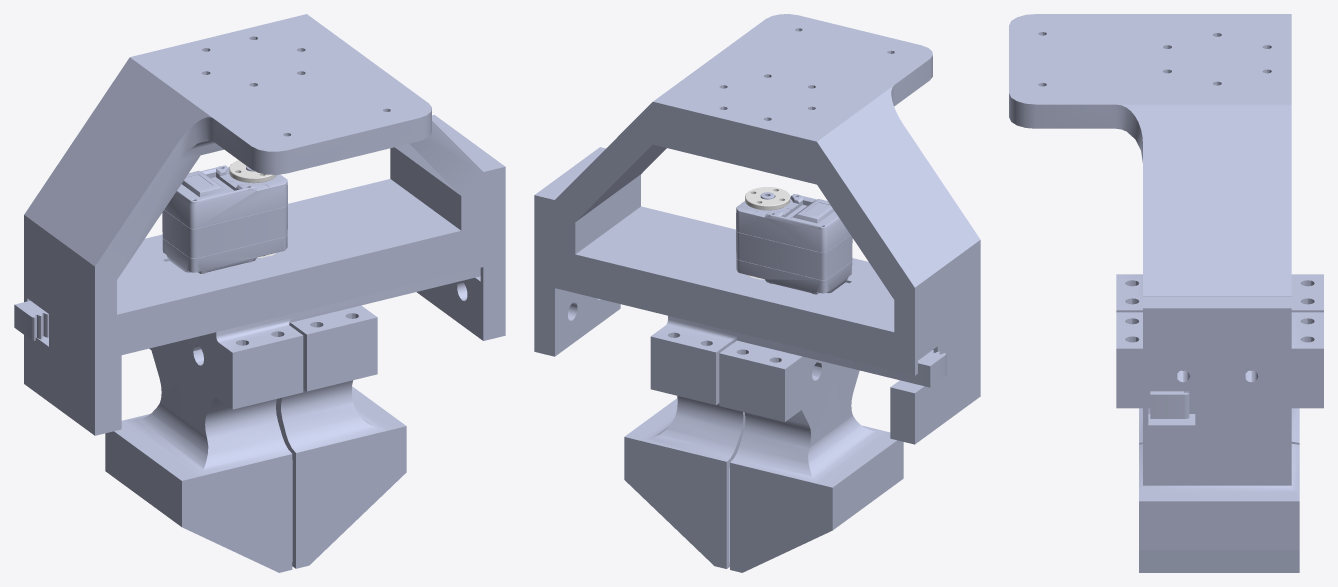
Rendered from new_gripper.glb.
The picture shows the model from 3 angles, left to right: view 1: azimuth 30°, elevation 25°; view 2: azimuth 150°, elevation 25°; view 3: azimuth 270°, elevation 25°; orthographic projection. The views are drawn at different scales.
Parts seen in each view (by area): view 1: IGUS Mount(Default)Display State 1, Bucket Gripper Finger 1(Default)Display State 1, Bucket Gripper Finger 2(Default)Display State 1, body3737688, Rack(Default)Display State 1, Rack 2(Default)Display State 1; view 2: IGUS Mount(Default)Display State 1, Bucket Gripper Finger 1(Default)Display State 1, Bucket Gripper Finger 2(Default)Display State 1, body3737688, Rack 2(Default)Display State 1, Rack(Default)Display State 1, body3759603; view 3: IGUS Mount(Default)Display State 1, Bucket Gripper Finger 2(Default)Display State 1, Rack 2(Default)Display State 1, Rack(Default)Display State 1, Bucket Gripper Finger 1(Default)Display State 1.
Part boxes in pixels (bbox=[...]): IGUS Mount(Default)Display State 1: bbox=[24, 14, 505, 435]; Bucket Gripper Finger 1(Default)Display State 1: bbox=[105, 341, 303, 572]; Bucket Gripper Finger 2(Default)Display State 1: bbox=[276, 344, 406, 568]; body3737688: bbox=[162, 165, 287, 273]; Rack(Default)Display State 1: bbox=[179, 268, 480, 379]; Rack 2(Default)Display State 1: bbox=[14, 300, 377, 361]; IGUS Mount(Default)Display State 1: bbox=[534, 14, 980, 444]; Bucket Gripper Finger 1(Default)Display State 1: bbox=[719, 363, 903, 572]; Bucket Gripper Finger 2(Default)Display State 1: bbox=[624, 362, 745, 568]; body3737688: bbox=[736, 192, 852, 294]; Rack 2(Default)Display State 1: bbox=[650, 316, 946, 387]; Rack(Default)Display State 1: bbox=[719, 340, 827, 394]; body3759603: bbox=[745, 187, 790, 210]; IGUS Mount(Default)Display State 1: bbox=[1009, 14, 1291, 485]; Bucket Gripper Finger 2(Default)Display State 1: bbox=[1116, 377, 1323, 572]; Rack 2(Default)Display State 1: bbox=[1116, 312, 1323, 376]; Rack(Default)Display State 1: bbox=[1116, 274, 1323, 418]; Bucket Gripper Finger 1(Default)Display State 1: bbox=[1139, 408, 1299, 444].
Size of the model in its own units: 0.1915 by 0.2078 by 0.1175.
